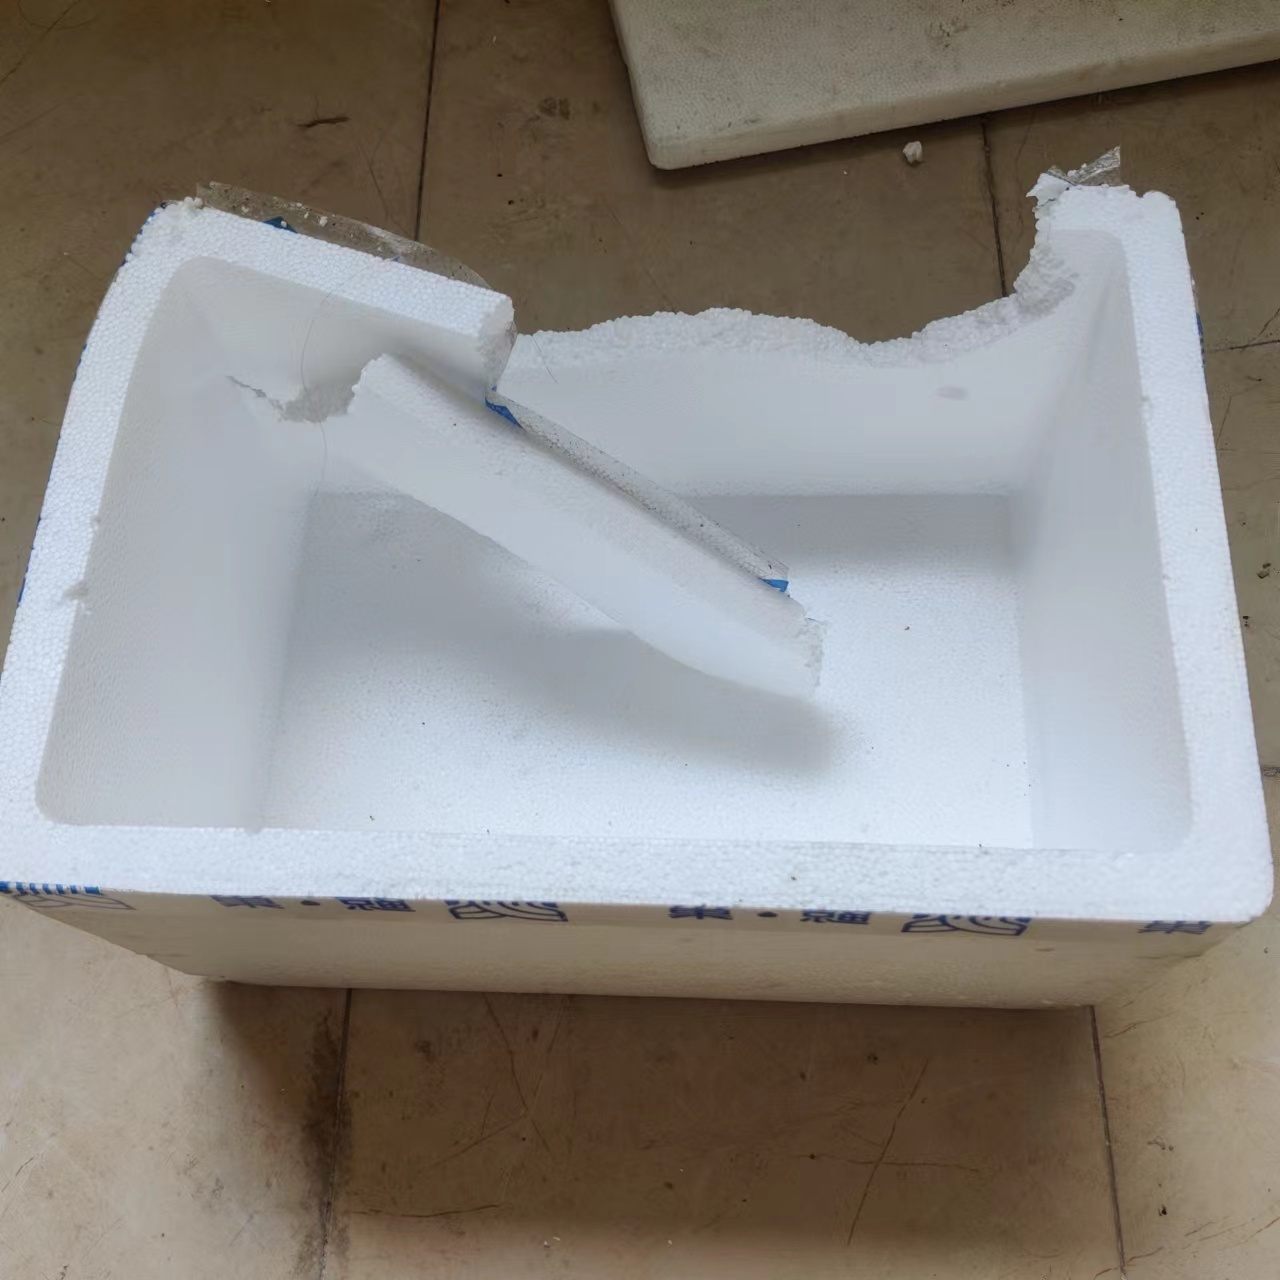5/可回收垃圾/泡沫: (1, 186, 1273, 1012), (602, 1, 1280, 169)
